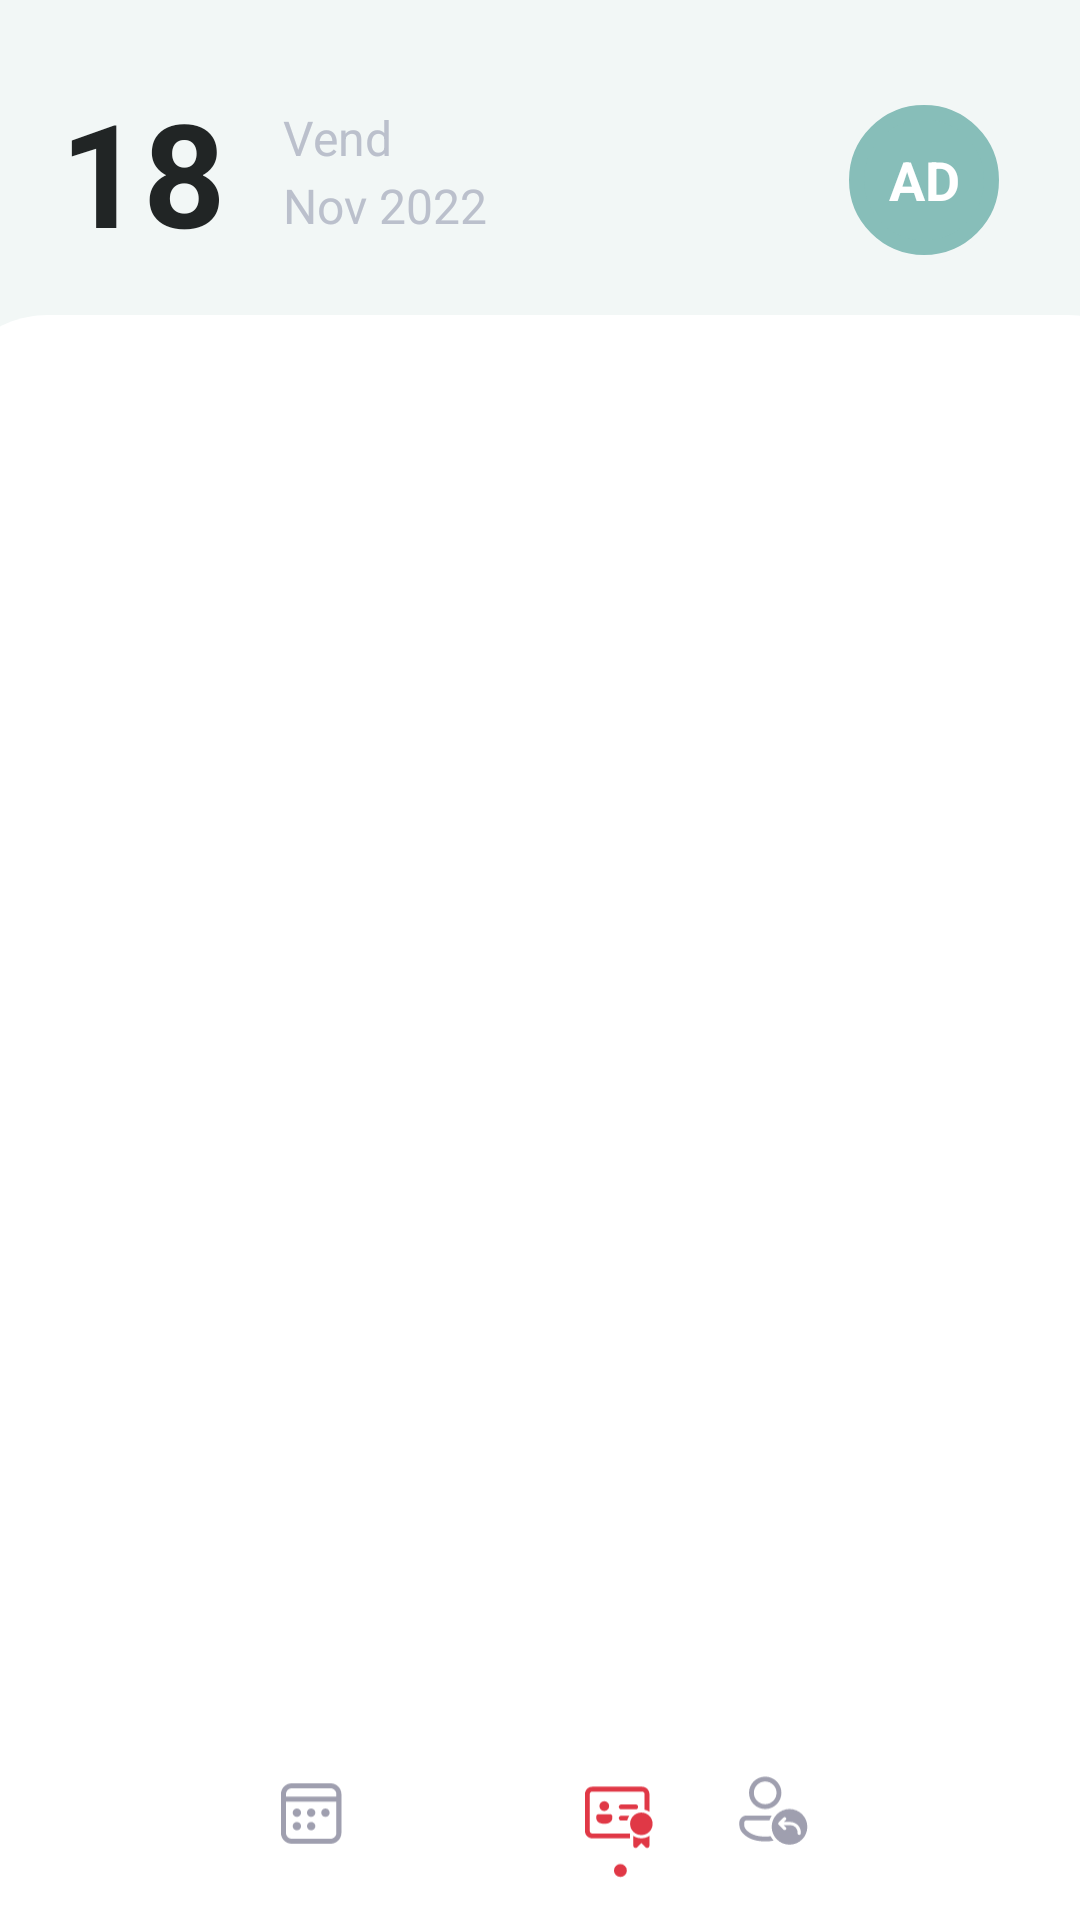

Locate icon controls on the screen. Image size 1080px×1920px, boxes as [x1, y1, x2, y2].
calendar: [281, 1783, 342, 1844]
deconnection: [739, 1776, 807, 1845]
